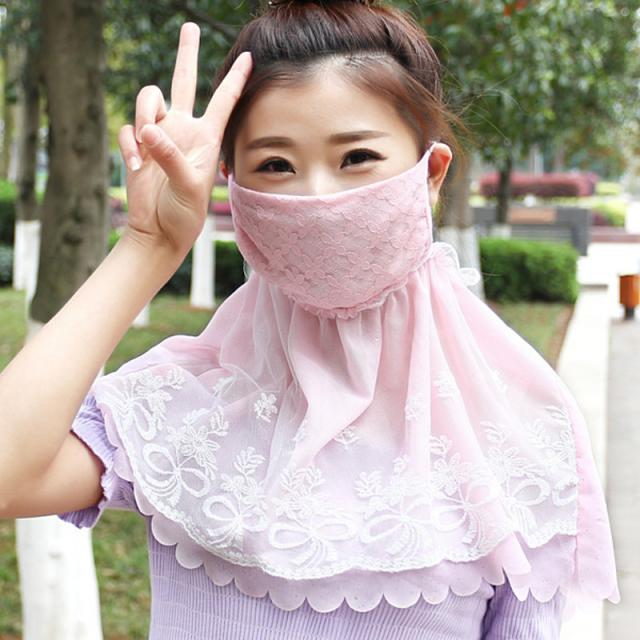mask: (230, 70, 420, 301)
